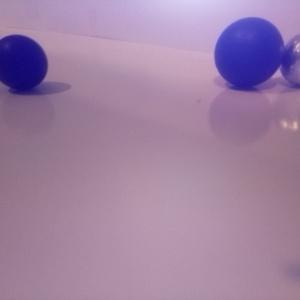alive_ball: (279, 32, 300, 86)
dead_ball: (214, 16, 285, 88), (1, 33, 48, 89)
